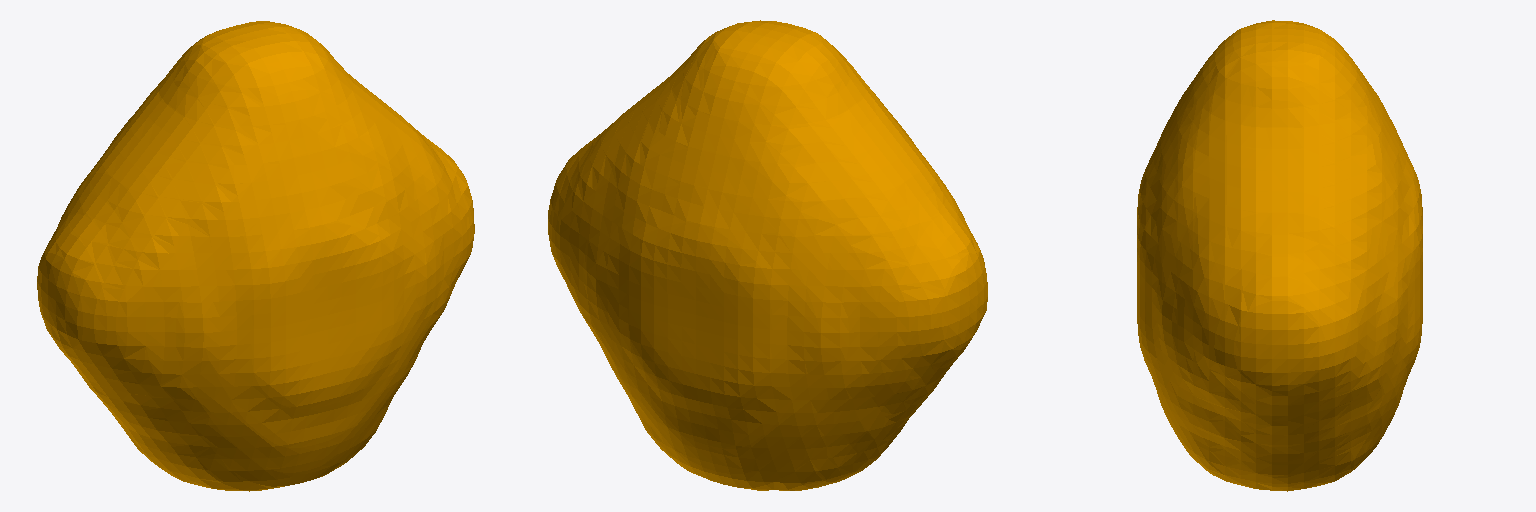
The robot description file, URDF, robot "object":
<?xml version="1.0"?>
        <robot name="object">
          <link name="object">
            <visual>
              <origin xyz="0.0 0.0 0.0"/>
              <geometry>
                <mesh filename="C1.stl" scale="1.00 1.00 1.00"/>
              </geometry>
            </visual>
            <collision>
              <origin xyz="0.0 0.0 0.0"/>
              <geometry>
                <mesh filename="C1.stl" scale="1.00 1.00 1.00"/>
              </geometry>
            </collision>
          </link>
        </robot>

--- Render facts (derived) ---
Views: 3 orthographic renders of the robot side by side, from view 1: azimuth 30°, elevation 25°; view 2: azimuth 150°, elevation 25°; view 3: azimuth 270°, elevation 25°.
Model object with 1 links and 0 joints (none), rooted at object, posed every joint at zero.
Visible links, largest first — view 1: object; view 2: object; view 3: object.
Boxes of the visible links, <box> form: object: <box>37,21,474,491</box>; object: <box>548,20,987,490</box>; object: <box>1137,20,1422,491</box>.
Size in the robot's own frame: 0.1078 by 0.066 by 0.1073 metres.
Meshes: 1 distinct files referenced, 1 mesh visuals loaded (1 binary STL).